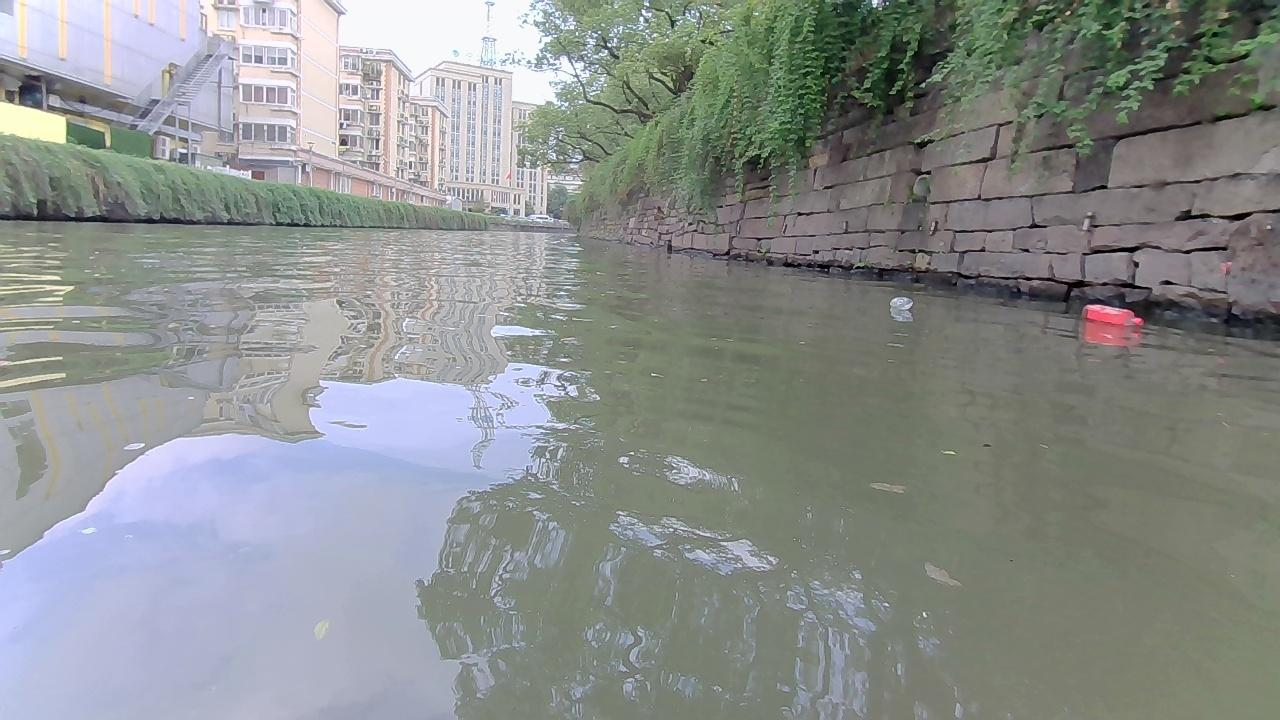bottle: (1080, 303, 1143, 326), (888, 295, 912, 309)
